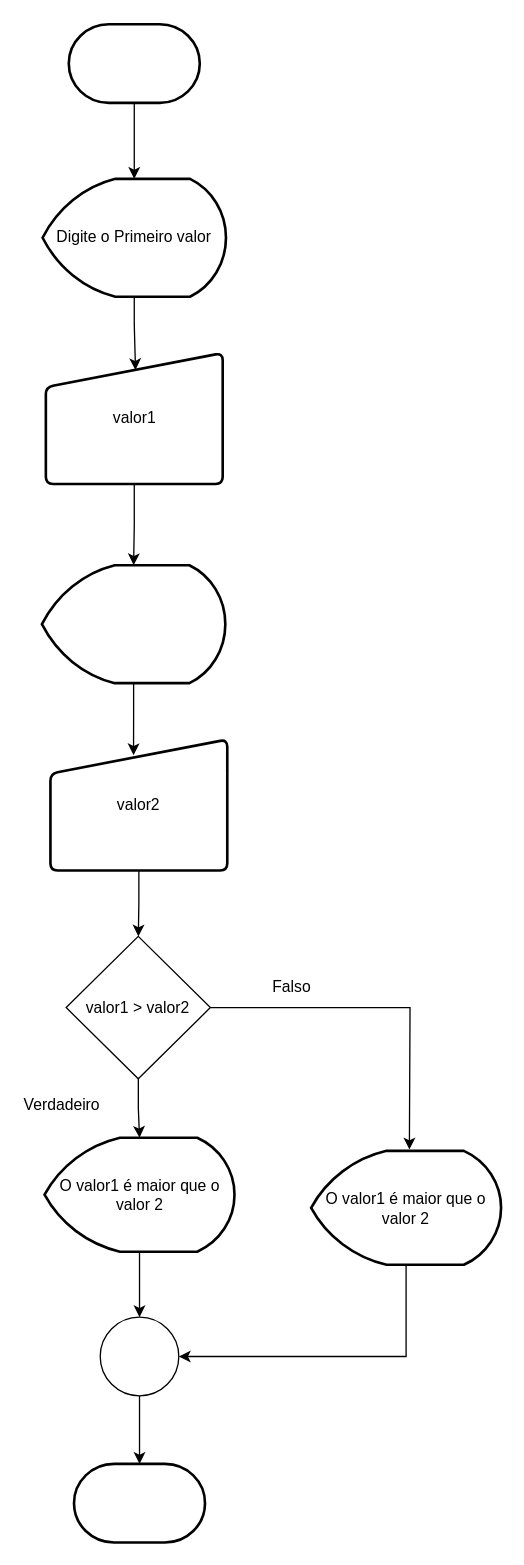
This 524x1565 diagram has some shape labels left out. The shapes that lost their labels are listed below. From the top down, each one's centre as x and y in pixels, then its label:
At (133,62): "Inicio".
At (133,623): "Digite o segundo valor".
At (139,1502): "Fim".
